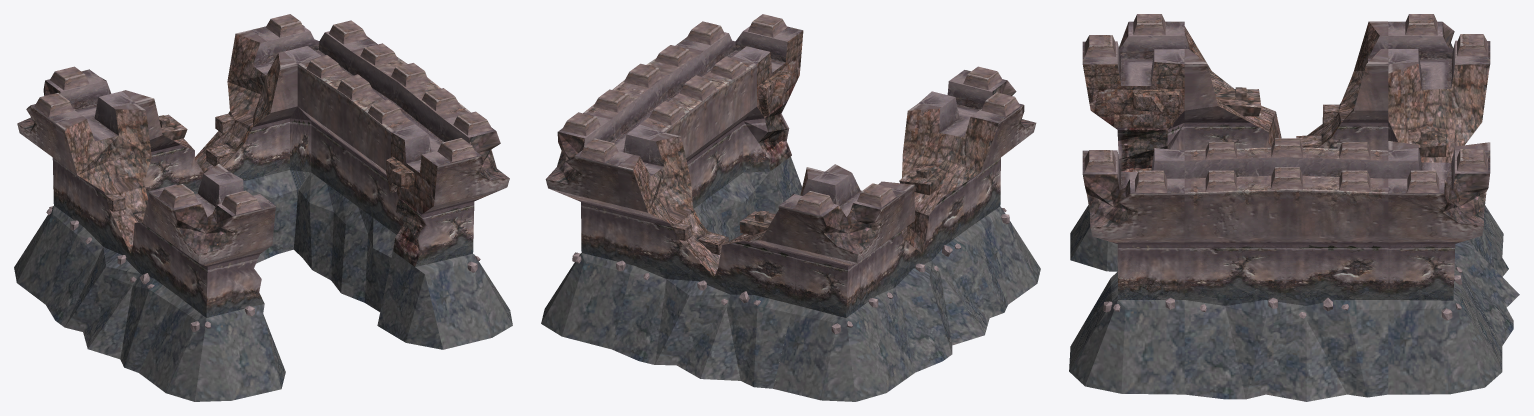
The model's file is C4SMRUIN3_H.obj.
3 views of the same model, side by side, from view 1: azimuth 30°, elevation 25°; view 2: azimuth 150°, elevation 25°; view 3: azimuth 270°, elevation 25° (orthographic). The views are drawn at different scales.
Visible parts, largest first — view 1: Node 0; view 2: Node 0; view 3: Node 0.
Boxes of the visible parts, x1,y1,x2,y2 form: Node 0: (14,14,512,401); Node 0: (541,14,1040,401); Node 0: (1069,14,1519,401).
Bounding box in the file's own units: 22.9 × 11.48 × 22.12.
4 materials, 4 textured.
